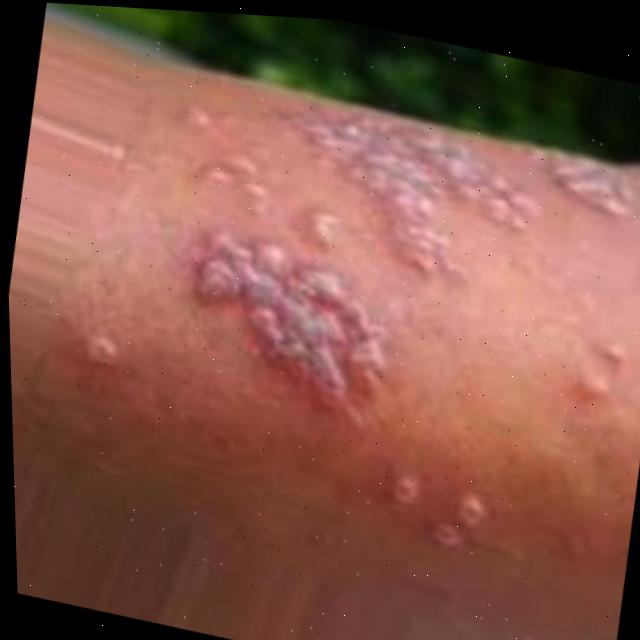Shingles: (160, 69, 549, 309), (162, 217, 415, 444), (381, 465, 497, 556), (532, 141, 640, 237), (77, 323, 125, 373)
